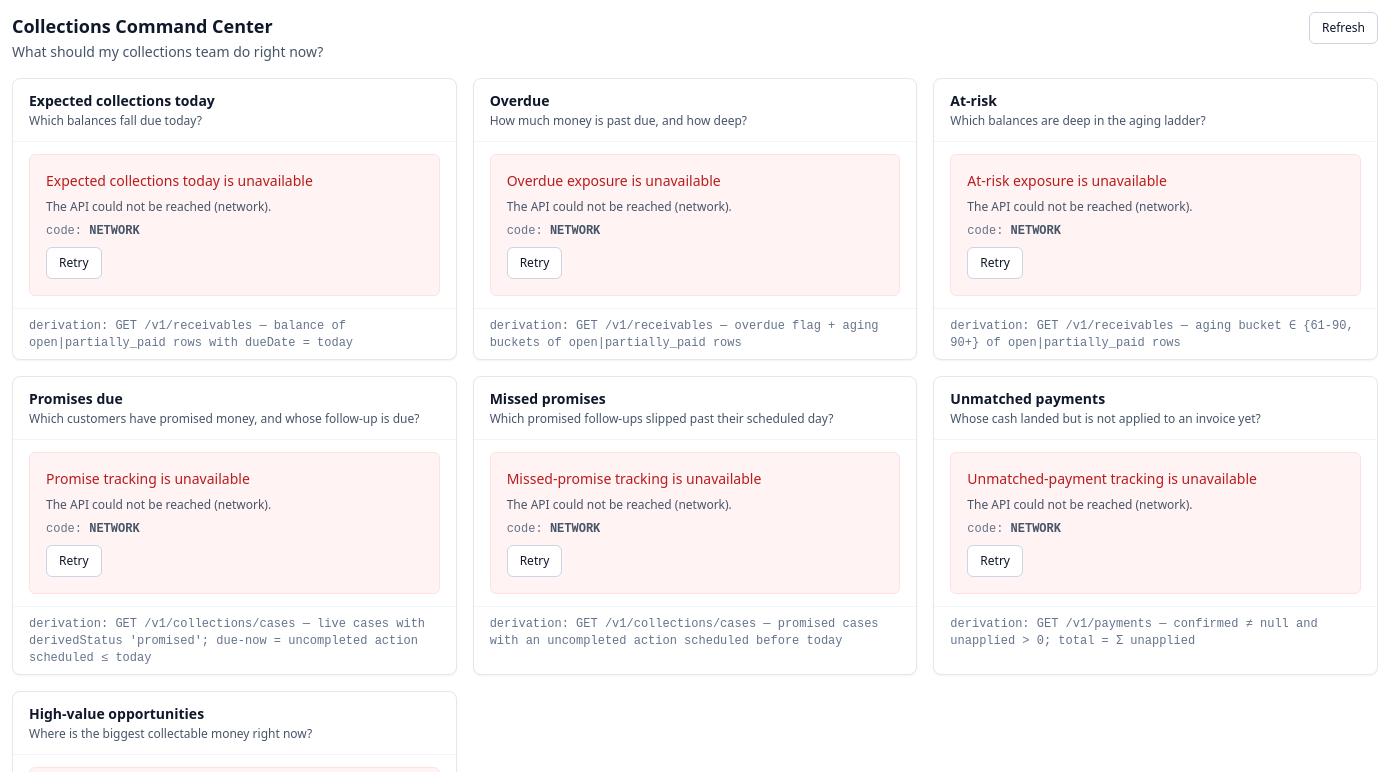
Scenario: Command Center against an unreachable backend (dead base URL) › refetches through the same typed client on Retry
First retry wave: each of the three queries runs again and still fails.
Click the button "Retry" below "Which balances fall due today?": [74, 263] box top-left (46, 247), bottom-right (102, 279)
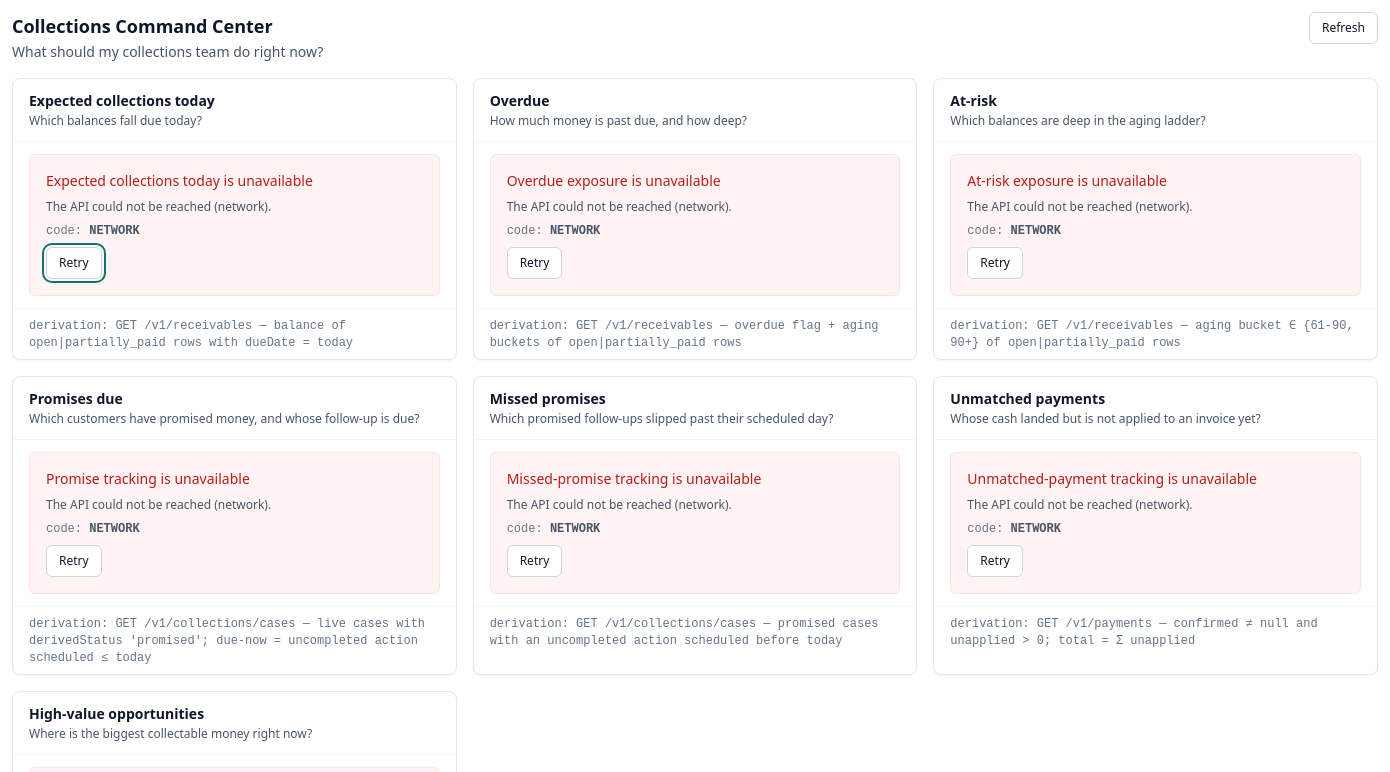
Second retry wave: queries succeed → cards settle into real states.
Click the button "Retry" below "Which balances fall due today?": [74, 263] box top-left (46, 247), bottom-right (102, 279)
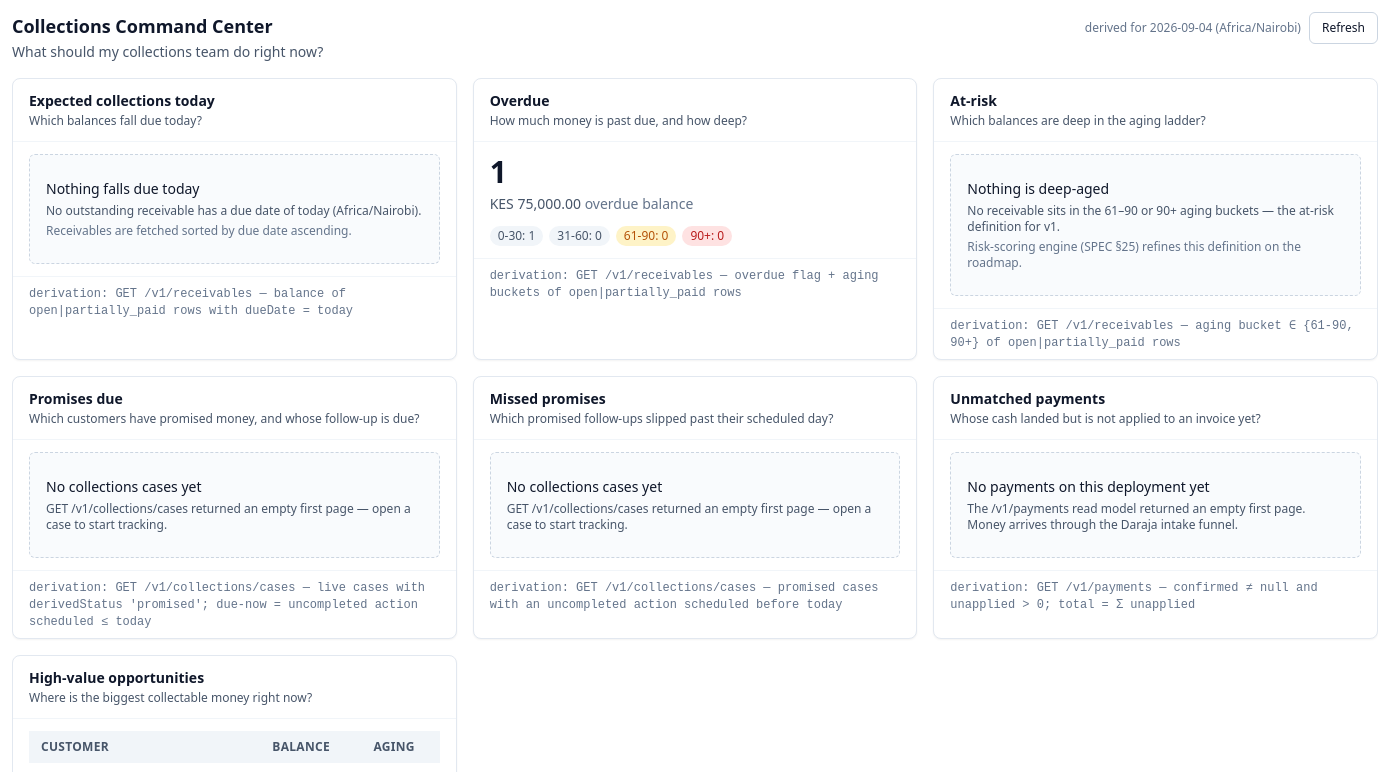
Expected: the element with test id "metric-total" shows "KES 75,000.00", top-left (490, 194), bottom-right (581, 213)
